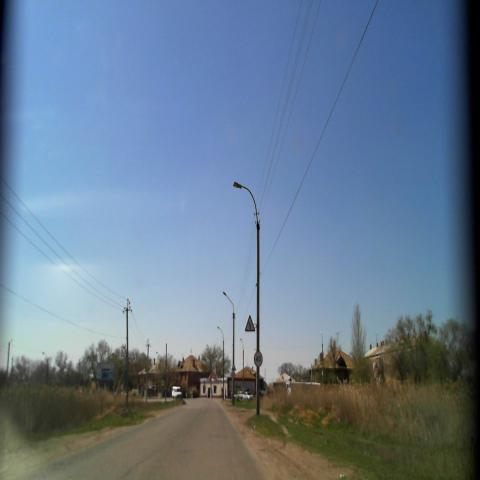1_11_1: (244, 312, 255, 332)
